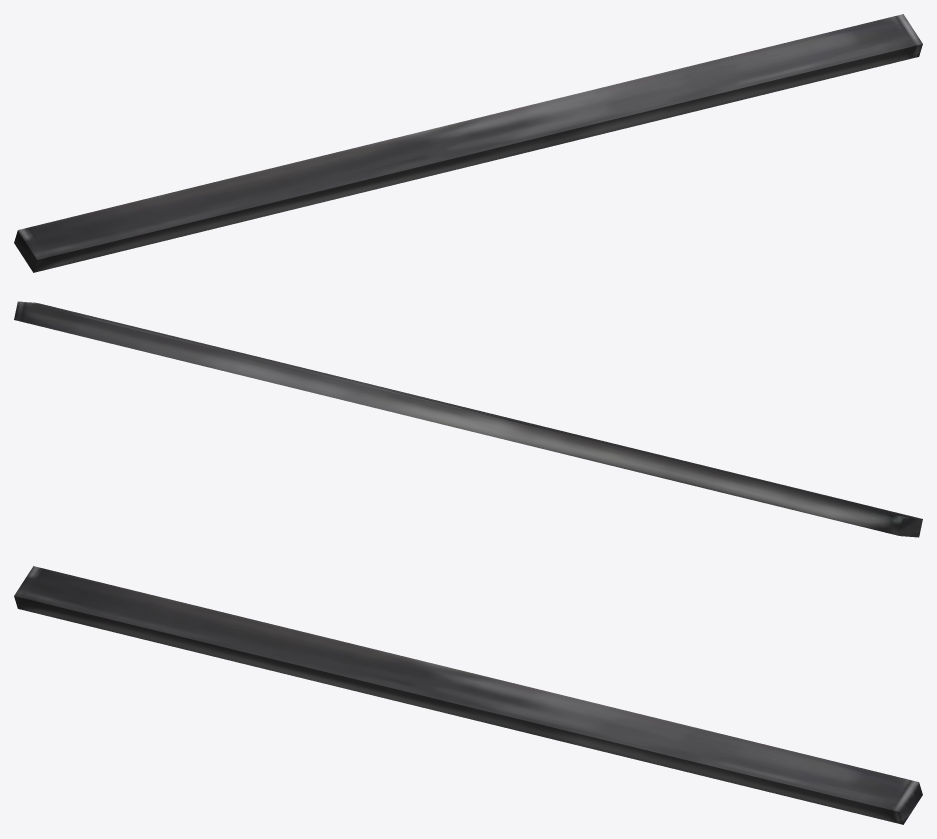
The model's file is louver__slat_0.glb.
3 views of the same model, one above another, from view 1: azimuth 30°, elevation 25°; view 2: azimuth 150°, elevation 25°; view 3: azimuth 330°, elevation 25° (orthographic).
Visible parts, largest first — view 1: geometry_0; view 2: geometry_0; view 3: geometry_0.
Boxes of the visible parts, x1,y1,x2,y2 form: geometry_0: (14, 14, 922, 272); geometry_0: (14, 301, 922, 537); geometry_0: (14, 566, 922, 824).
Size of the model in its own units: 0.216 by 0.00731 by 0.00985.
Materials: 1 (1 with a texture image).
